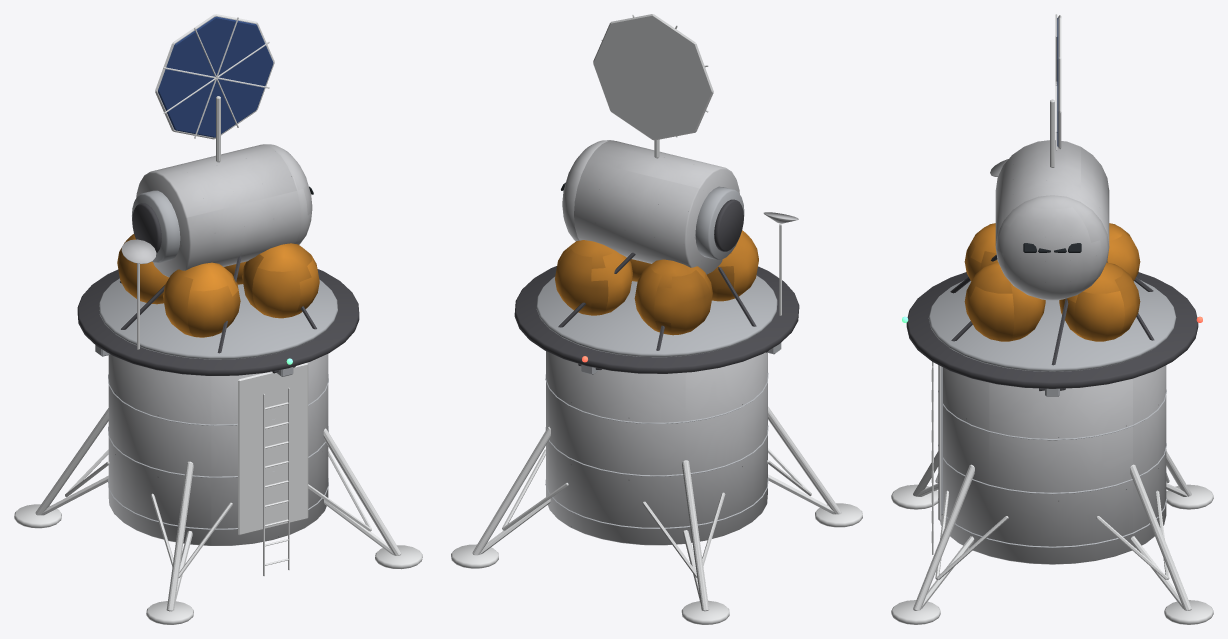
Rendered from artemis_lander.glb.
3 renders of one model, left to right at view 1: azimuth 30°, elevation 25°; view 2: azimuth 150°, elevation 25°; view 3: azimuth 270°, elevation 25°, orthographic. The views are drawn at different scales.
Visible parts, largest first — view 1: DescentStage, Cabin, Cube, Cylinder.017, Cylinder.007, Cylinder.006, Sphere.002, Sphere.003, Cylinder.014, Sphere.001, Cylinder.037, Sphere.004 (+8 smaller); view 2: DescentStage, Cabin, Cylinder.018, Cylinder.007, Cylinder.006, Sphere.001, Sphere, Sphere.002, Cylinder.014, Cylinder.032, Sphere.004, Cylinder.015 (+5 smaller); view 3: DescentStage, Cylinder.007, Sphere.004, Cylinder.006, Cabin, Sphere.003, Sphere, Cylinder.027, Cylinder.042, Sphere.001, Sphere.002, Cylinder.031 (+6 smaller).
Part boxes in pixels (x1=…): DescentStage: x1=108, y1=354, x2=328, y2=545; Cabin: x1=136, y1=145, x2=300, y2=277; Cube: x1=238, y1=363, x2=308, y2=535; Cylinder.017: x1=158, y1=16, x2=273, y2=137; Cylinder.007: x1=99, y1=278, x2=337, y2=359; Cylinder.006: x1=77, y1=269, x2=359, y2=375; Sphere.002: x1=163, y1=262, x2=240, y2=337; Sphere.003: x1=242, y1=243, x2=319, y2=318; Cylinder.014: x1=132, y1=190, x2=180, y2=263; Sphere.001: x1=117, y1=234, x2=168, y2=304; Cylinder.037: x1=166, y1=461, x2=193, y2=611; Sphere.004: x1=260, y1=144, x2=312, y2=244; DescentStage: x1=546, y1=351, x2=767, y2=545; Cabin: x1=574, y1=140, x2=739, y2=274; Cylinder.018: x1=593, y1=14, x2=713, y2=140; Cylinder.007: x1=536, y1=275, x2=777, y2=357; Cylinder.006: x1=514, y1=266, x2=799, y2=373; Sphere.001: x1=634, y1=259, x2=712, y2=335; Sphere: x1=555, y1=240, x2=632, y2=315; Sphere.002: x1=707, y1=230, x2=758, y2=301; Cylinder.014: x1=695, y1=186, x2=744, y2=259; Cylinder.032: x1=682, y1=460, x2=709, y2=611; Sphere.004: x1=562, y1=140, x2=614, y2=241; Cylinder.015: x1=714, y1=199, x2=743, y2=251; DescentStage: x1=940, y1=365, x2=1166, y2=564; Cylinder.007: x1=928, y1=280, x2=1176, y2=371; Sphere.004: x1=995, y1=195, x2=1109, y2=300; Cylinder.006: x1=906, y1=272, x2=1198, y2=388; Cabin: x1=995, y1=140, x2=1109, y2=245; Sphere.003: x1=964, y1=262, x2=1045, y2=341; Sphere: x1=1059, y1=262, x2=1140, y2=341; Cylinder.027: x1=1130, y1=464, x2=1191, y2=610; Cylinder.042: x1=913, y1=464, x2=974, y2=610; Sphere.001: x1=1107, y1=223, x2=1140, y2=281; Sphere.002: x1=964, y1=223, x2=997, y2=281; Cylinder.031: x1=1164, y1=600, x2=1213, y2=624.
Bounding box in the file's own units: 6.52 × 12.04 × 6.52.
Materials: 10 (2 with a texture image).
